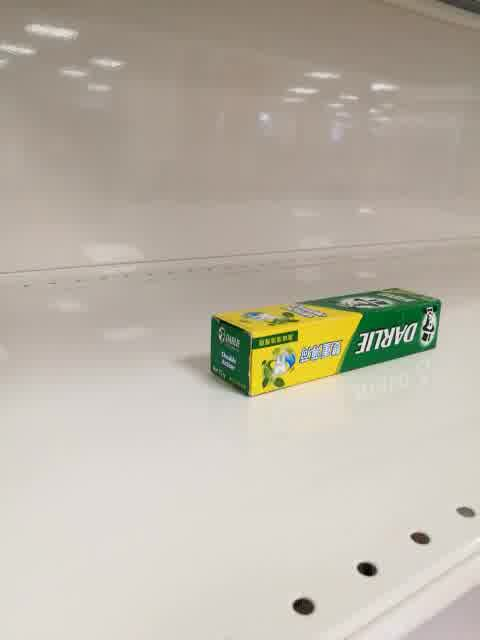toothpaste: (210, 286, 442, 400)
